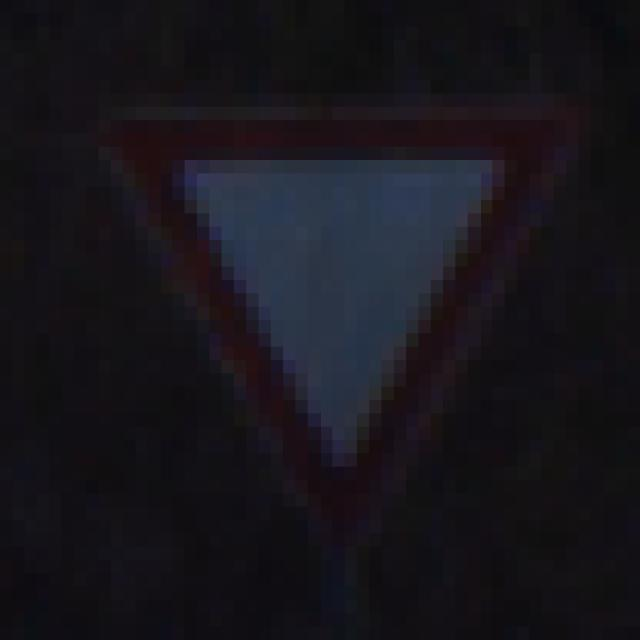Give Way: (75, 68, 579, 574)
